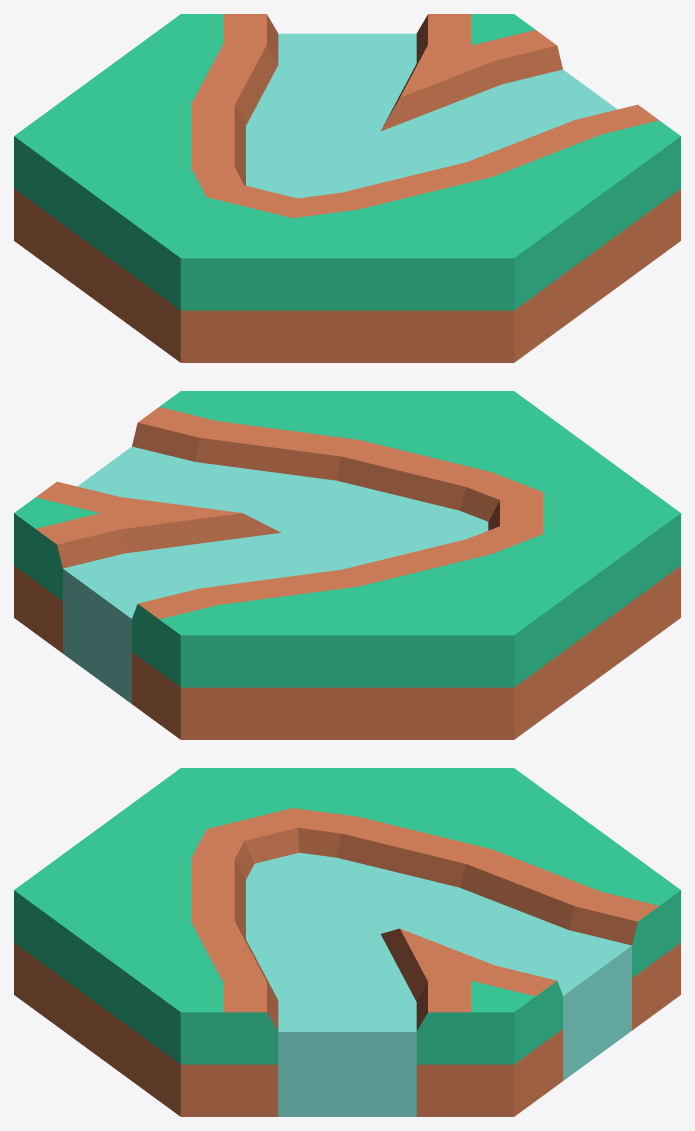
Rendered from river_cornerSharp.dae.
3 renders of one model, top to bottom at view 1: azimuth 30°, elevation 25°; view 2: azimuth 150°, elevation 25°; view 3: azimuth 270°, elevation 25°, orthographic.
Parts seen in each view (by area): view 1: river_cornerSharp; view 2: river_cornerSharp; view 3: river_cornerSharp.
Part boxes in pixels (x1,y1,x2,y2): river_cornerSharp: (14,14,680,362); river_cornerSharp: (14,391,680,739); river_cornerSharp: (14,768,680,1116).
Bounding box in the file's own units: 1 × 0.2 × 1.15.
